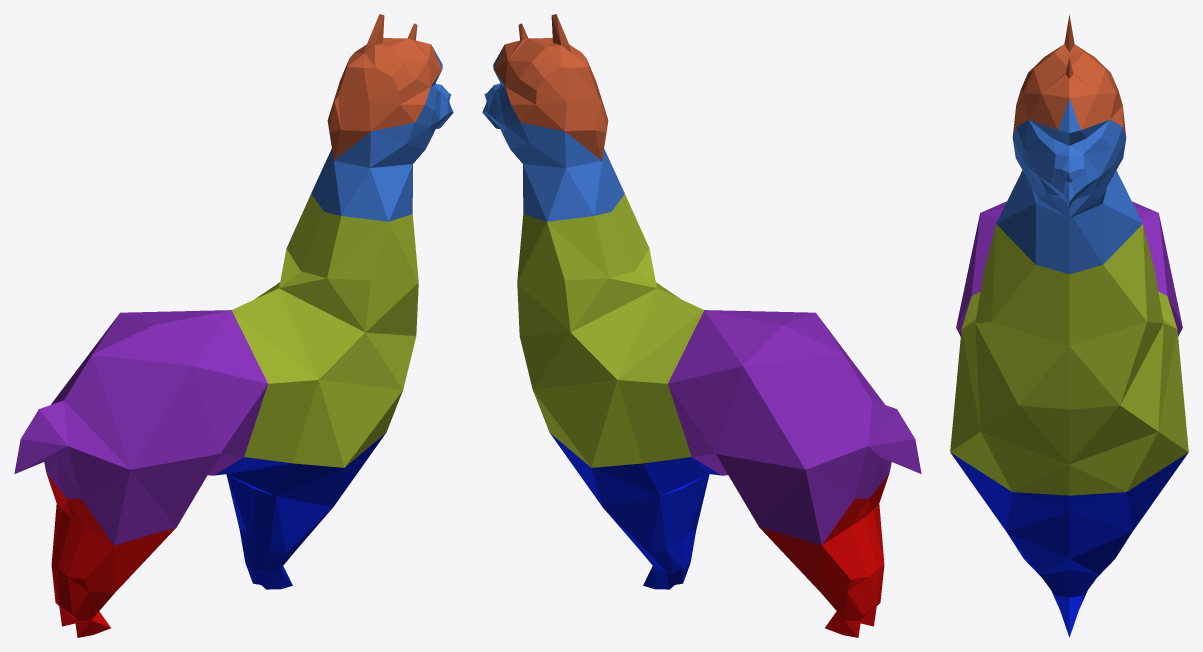
File: Alpaca4dModel.glb
3 renders of one model, left to right at view 1: azimuth 30°, elevation 25°; view 2: azimuth 150°, elevation 25°; view 3: azimuth 270°, elevation 25°, orthographic. The views are drawn at different scales.
Visible parts, largest first — view 1: 92235909-7306-46CE-AE52-8A80ED969274; view 2: 92235909-7306-46CE-AE52-8A80ED969274; view 3: 92235909-7306-46CE-AE52-8A80ED969274.
Boxes of the visible parts, x1=… form: 92235909-7306-46CE-AE52-8A80ED969274: x1=14, y1=14, x2=453, y2=637; 92235909-7306-46CE-AE52-8A80ED969274: x1=482, y1=14, x2=921, y2=637; 92235909-7306-46CE-AE52-8A80ED969274: x1=950, y1=14, x2=1188, y2=637.
Bounding box in the file's own units: 47.09 × 56.46 × 18.05.
